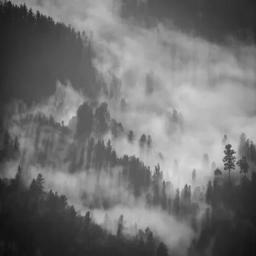Heavy smoke: (5, 0, 256, 248)
